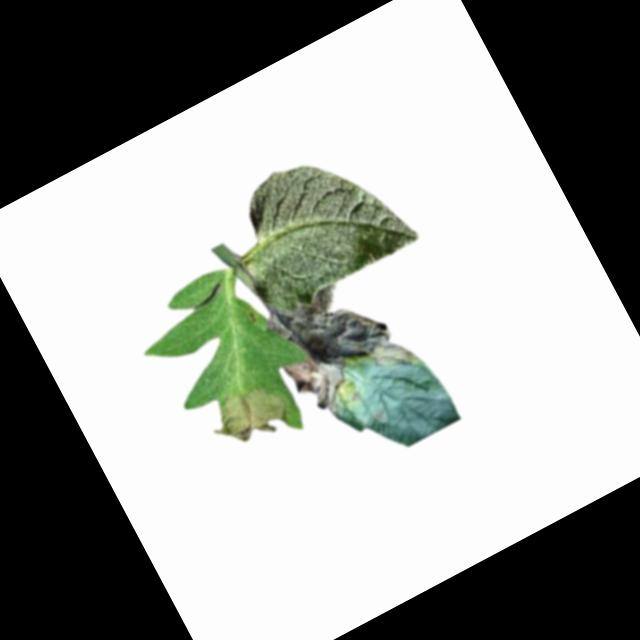Late_blight: (260, 262, 425, 427), (197, 371, 298, 461)
